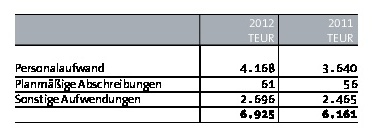table: (0, 0, 375, 139)
